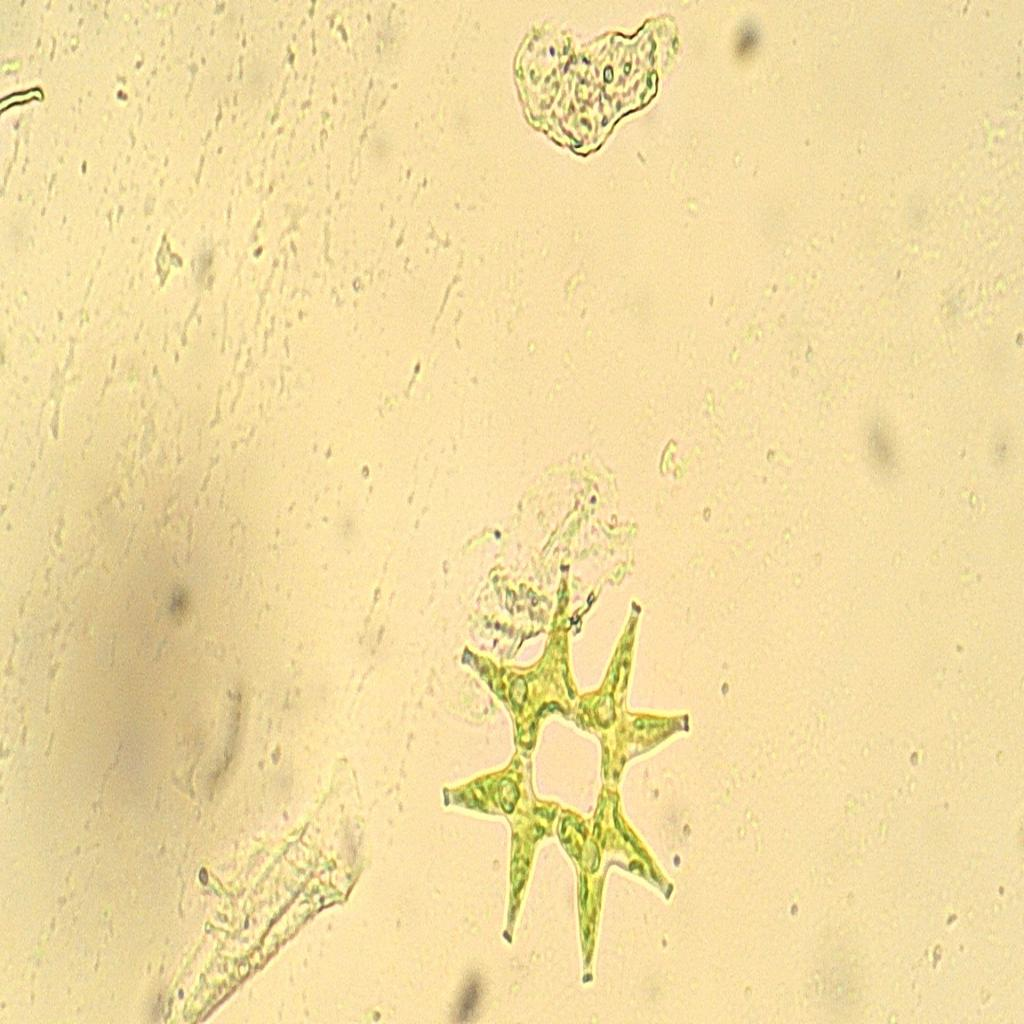Pediastrum_CO: (438, 545, 706, 1009)
